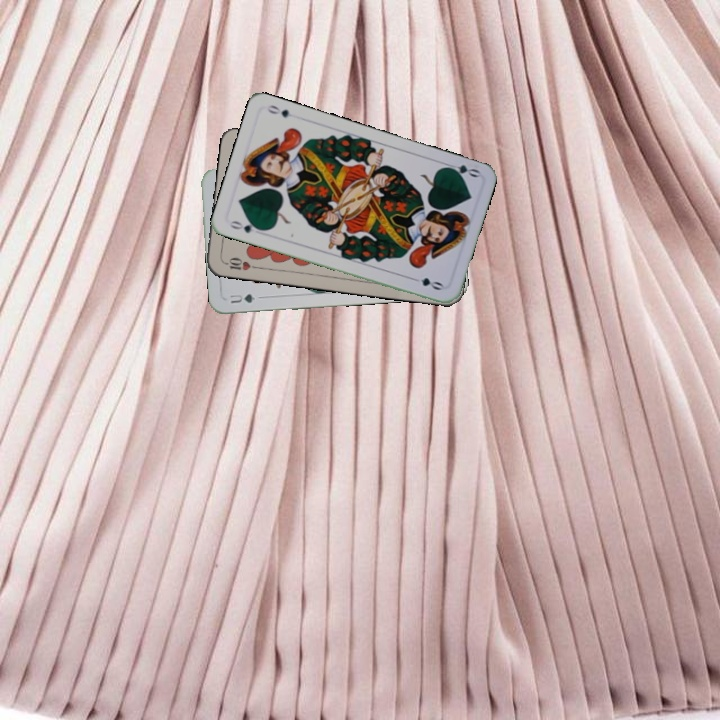GO: (441, 159, 482, 180), (226, 216, 266, 236)
GU: (226, 289, 259, 306)
H10: (220, 253, 260, 273)
